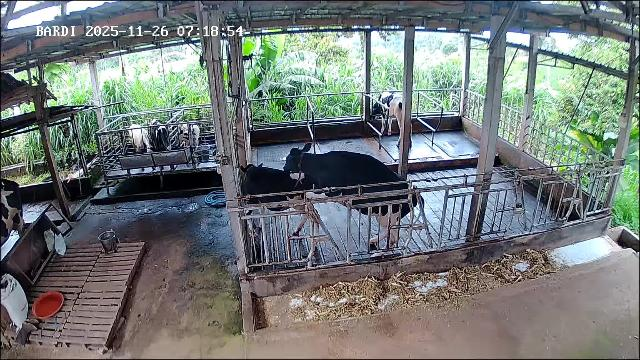mounting: (282, 141, 422, 250)
